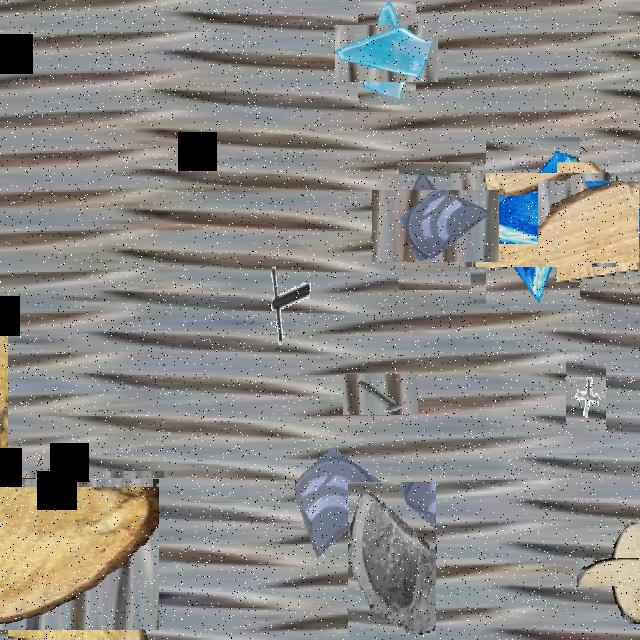glass: (468, 155, 598, 286), (348, 482, 436, 638), (295, 416, 383, 572), (385, 176, 485, 276), (347, 13, 427, 94)
metal: (262, 261, 310, 347), (352, 365, 410, 424), (566, 361, 606, 432)
plastic: (0, 390, 87, 558)
wood: (0, 475, 155, 634), (547, 171, 640, 272), (594, 540, 640, 604)
